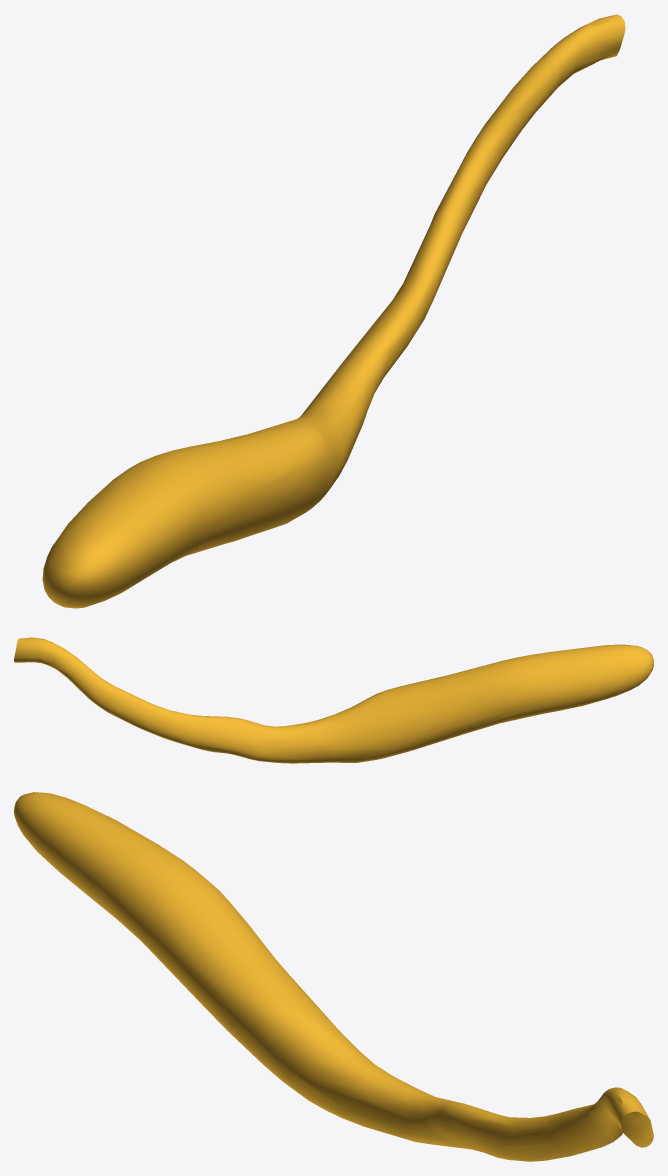
File: nervoso-peduncle-of-flocculus-r.glb
3 renders of one model, top to bottom at view 1: azimuth 30°, elevation 25°; view 2: azimuth 150°, elevation 25°; view 3: azimuth 270°, elevation 25°, orthographic. The views are drawn at different scales.
Parts seen in each view (by area): view 1: Peduncle of flocculus.r; view 2: Peduncle of flocculus.r; view 3: Peduncle of flocculus.r.
Part boxes in pixels (left/top/right/bottom): Peduncle of flocculus.r: left=42, top=14, right=625, bottom=608; Peduncle of flocculus.r: left=14, top=637, right=653, bottom=763; Peduncle of flocculus.r: left=14, top=792, right=653, bottom=1161.
Size of the model in its own units: 0.0333 by 0.00868 by 0.0237.
